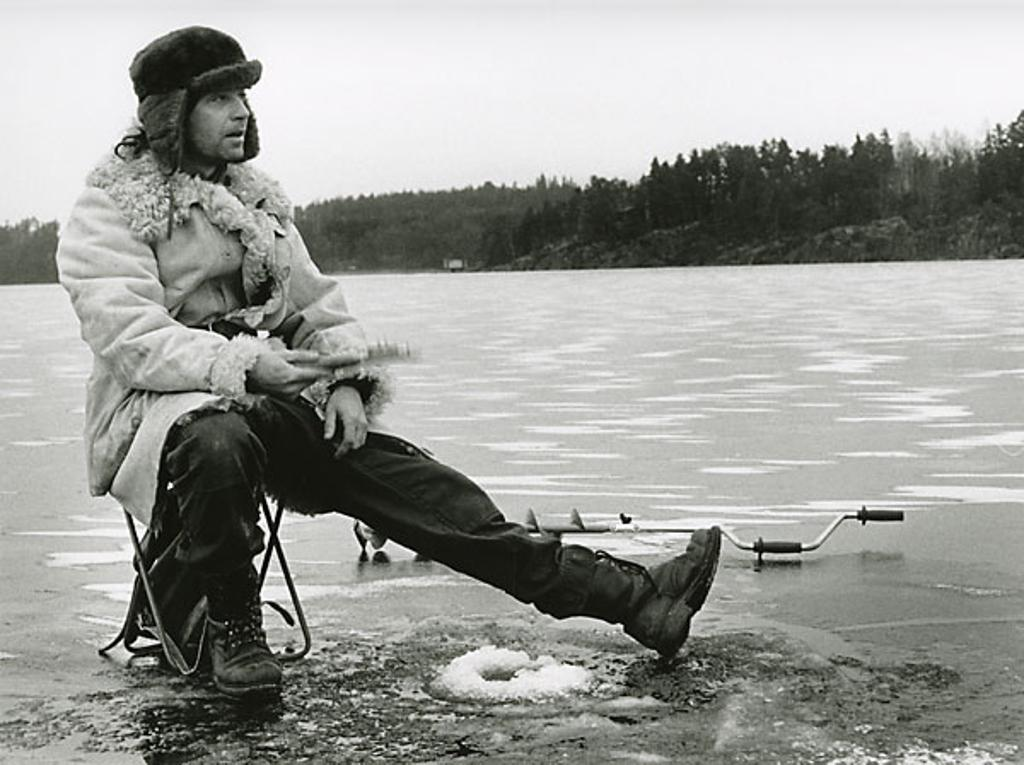face: (169, 77, 255, 165)
